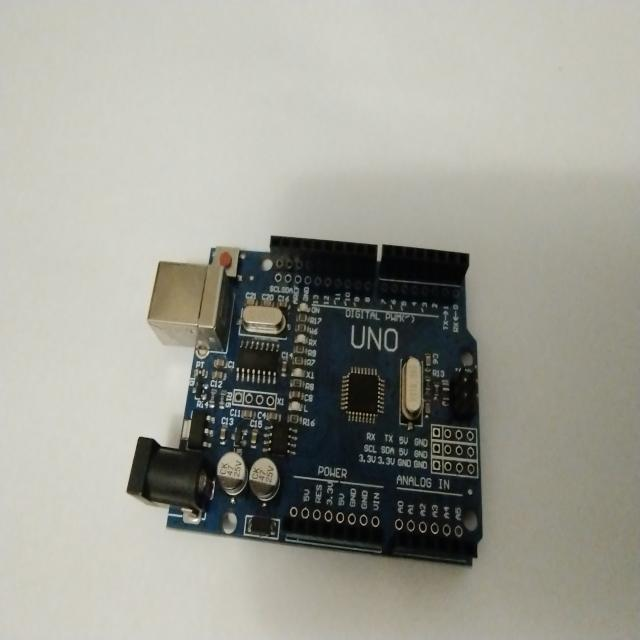arduino: (129, 232, 489, 572)
